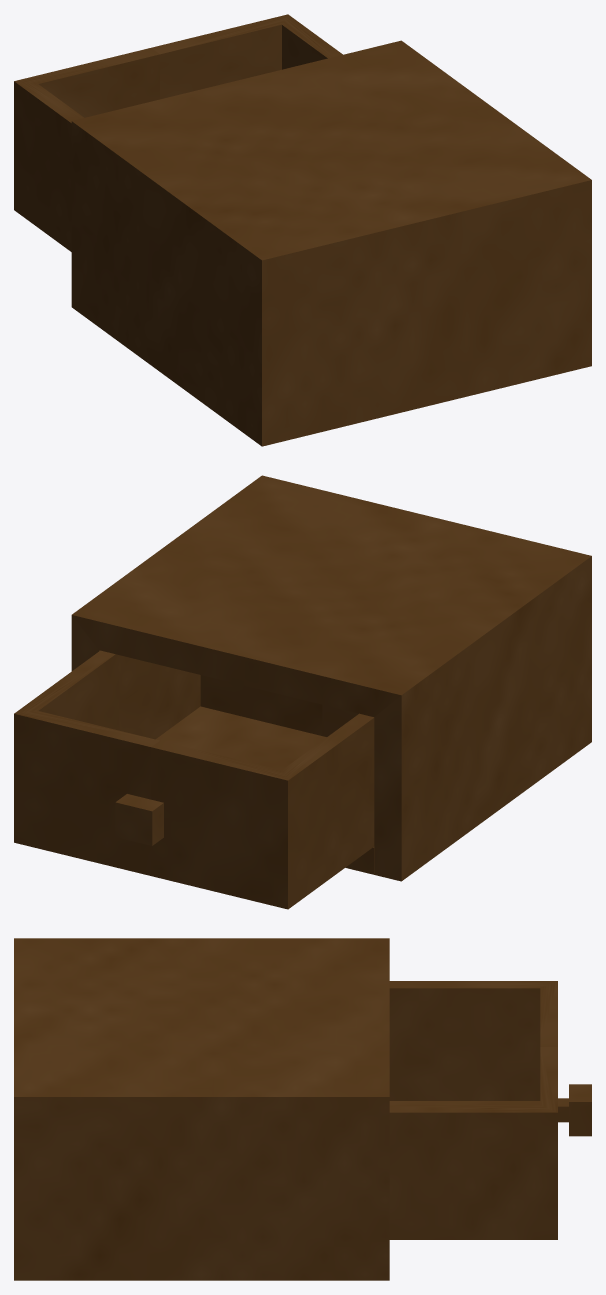
File: kitchen_wooden_half_cabinet_2.obj
The picture shows the model from 3 angles, top to bottom: view 1: azimuth 30°, elevation 25°; view 2: azimuth 150°, elevation 25°; view 3: azimuth 270°, elevation 25°; orthographic projection.
Parts seen in each view (by area): view 1: Cube.000; view 2: Cube.000; view 3: Cube.000.
Boxes of the visible parts, <box> form: Cube.000: <box>14,14,591,446</box>; Cube.000: <box>14,475,591,909</box>; Cube.000: <box>14,938,591,1280</box>.
Bounding box in the file's own units: 2 × 1.08 × 3.08.
